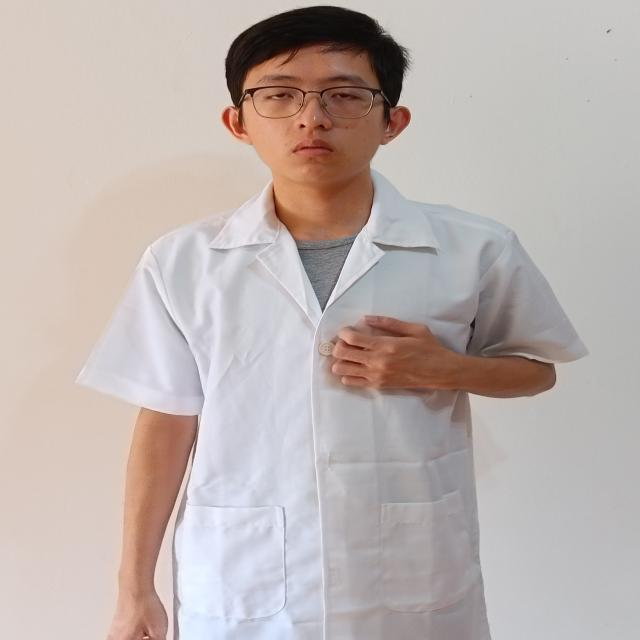person_with_labcoat: (79, 7, 586, 640)
